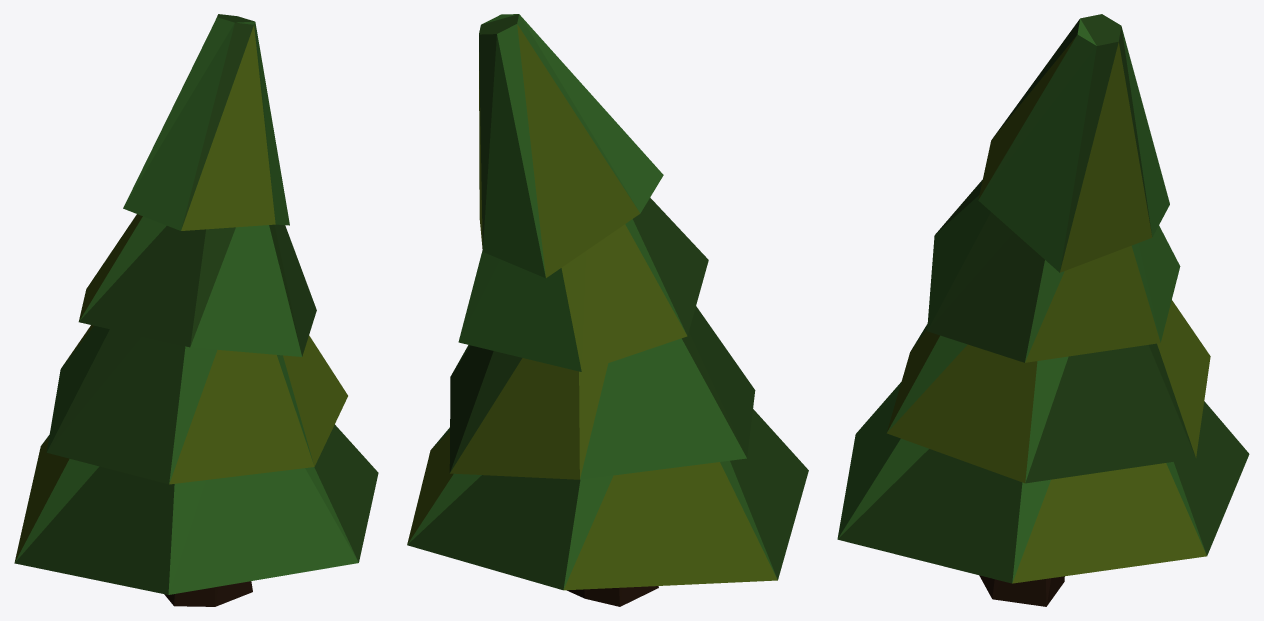
The model's file is Tree2_M1_5_big.fbx.
3 views of the same model, side by side, from view 1: azimuth 30°, elevation 25°; view 2: azimuth 150°, elevation 25°; view 3: azimuth 270°, elevation 25° (orthographic). The views are drawn at different scales.
Visible parts, largest first — view 1: Tree2_M1_5_big; view 2: Tree2_M1_5_big; view 3: Tree2_M1_5_big.
Part boxes in pixels (x1=…): Tree2_M1_5_big: x1=14, y1=14, x2=378, y2=606; Tree2_M1_5_big: x1=407, y1=14, x2=808, y2=606; Tree2_M1_5_big: x1=837, y1=14, x2=1249, y2=606.
Bounding box in the file's own units: 255 × 380 × 239.
